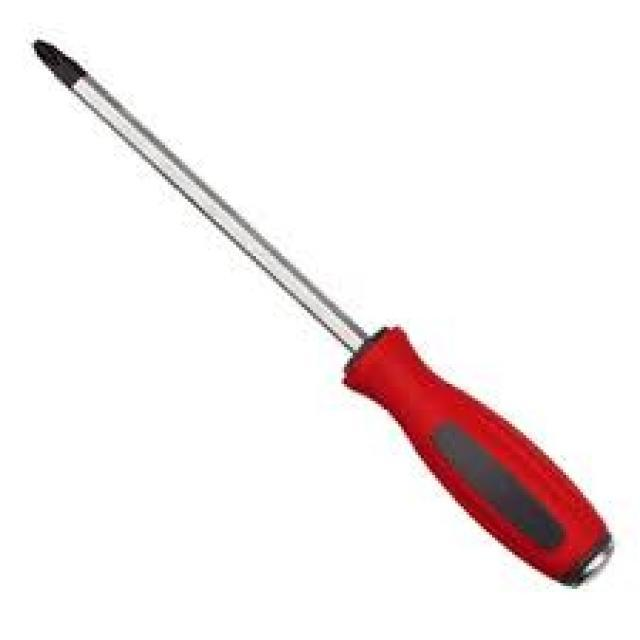screwdriver: (24, 35, 619, 596)
